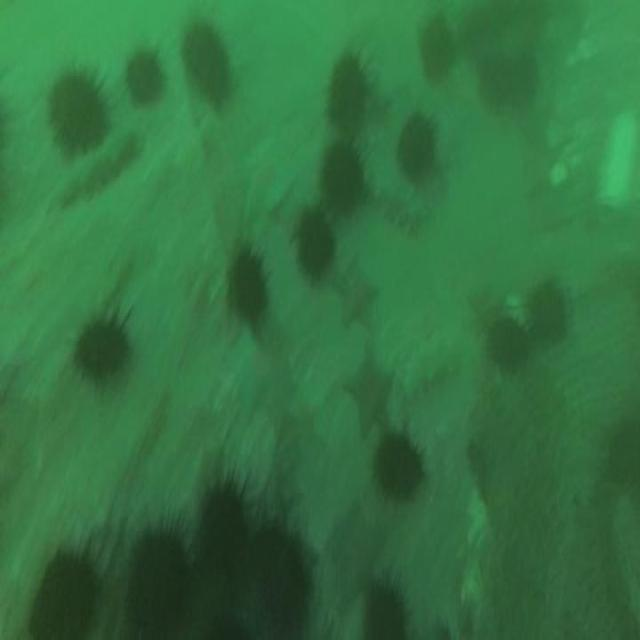echinus: (252, 531, 310, 630), (130, 531, 188, 629), (187, 564, 260, 640), (31, 561, 99, 640), (49, 70, 107, 148), (182, 25, 232, 98), (326, 54, 366, 144), (226, 243, 268, 318), (72, 321, 129, 376), (375, 435, 422, 501), (204, 482, 247, 553), (294, 210, 336, 281), (321, 144, 362, 215), (398, 109, 434, 179), (420, 21, 455, 84), (366, 584, 405, 640), (527, 275, 561, 337), (479, 52, 515, 109), (489, 321, 527, 371), (127, 51, 161, 101), (514, 46, 536, 104)
holothurian: (56, 134, 135, 207), (365, 166, 423, 237), (402, 330, 458, 398)
starfish: (328, 501, 388, 610), (346, 349, 394, 436), (340, 253, 380, 327), (469, 282, 511, 331)
